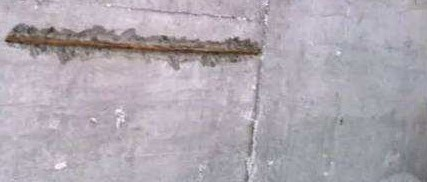Crack: (106, 4, 252, 22)
Exposed reinforcement: (5, 35, 259, 55)
Spalling: (4, 24, 263, 72)
